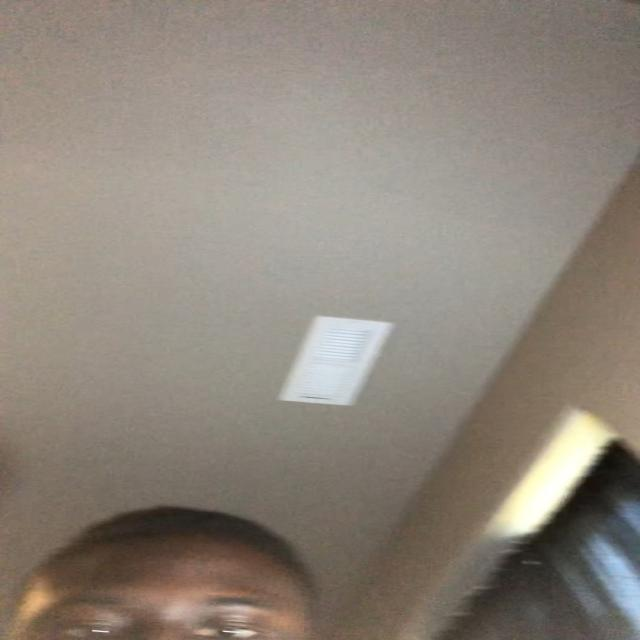face: (12, 526, 320, 640)
